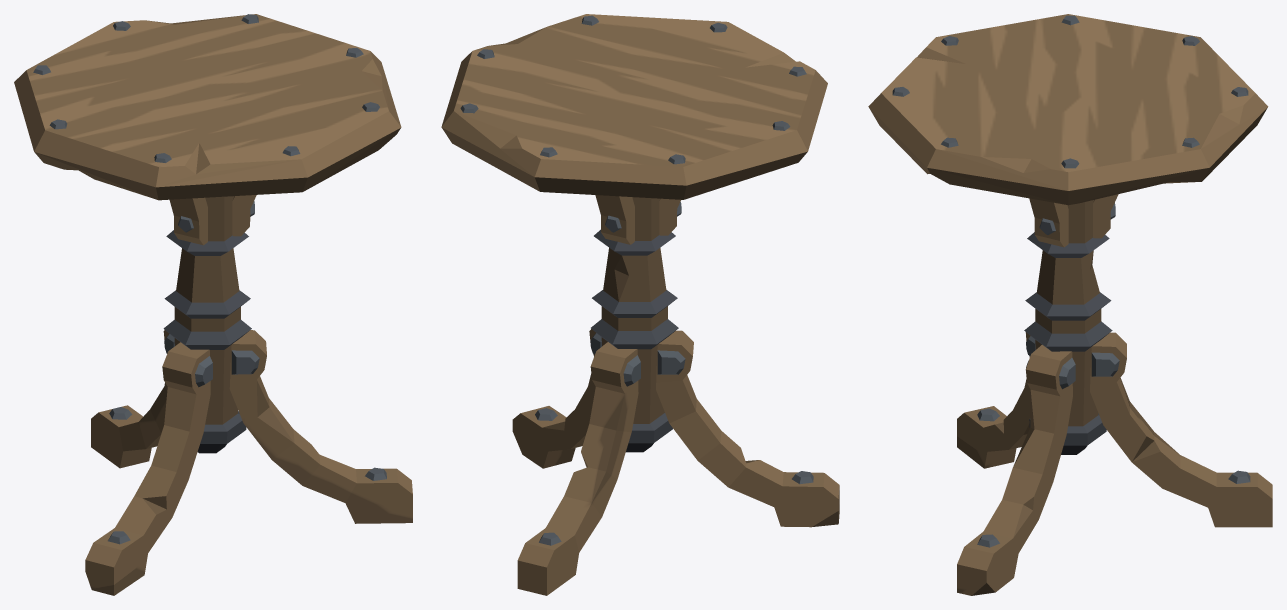
File: SM_Prop_Table_04.fbx
3 renders of one model, left to right at view 1: azimuth 30°, elevation 25°; view 2: azimuth 150°, elevation 25°; view 3: azimuth 270°, elevation 25°, orthographic.
Visible parts, largest first — view 1: SM_Prop_Table_04; view 2: SM_Prop_Table_04; view 3: SM_Prop_Table_04.
Boxes of the visible parts, left/top/right/bottom form: SM_Prop_Table_04: left=14, top=14, right=412, bottom=595; SM_Prop_Table_04: left=441, top=14, right=839, bottom=595; SM_Prop_Table_04: left=868, top=14, right=1272, bottom=595.
Size of the model in its own units: 78.11 by 92.69 by 78.94.
